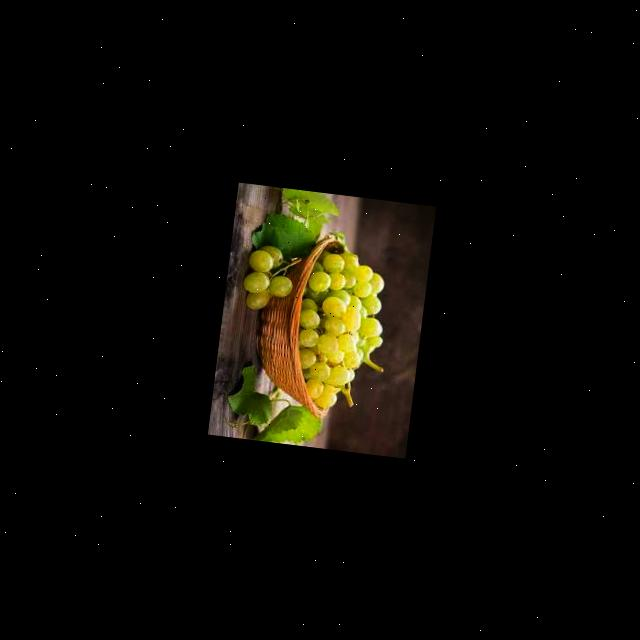grape: (288, 235, 398, 416), (238, 242, 298, 314)
